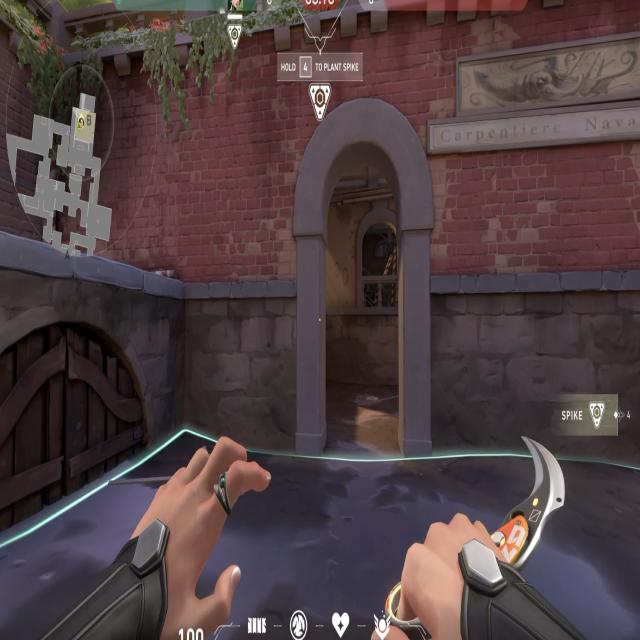B_Boathouse: (287, 90, 438, 466)
